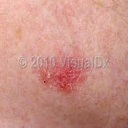Carcinoma: (36, 63, 90, 93)
